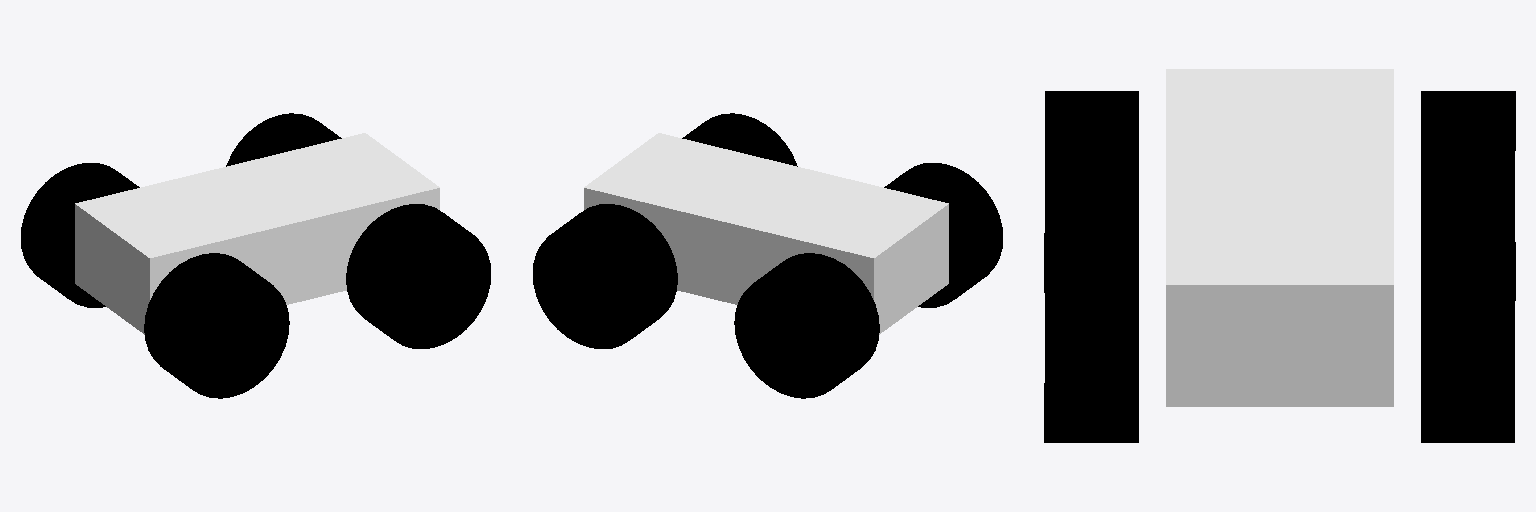
URDF robot description (diode_robot):
<?xml version="1.0" ?>
<robot name="diode_robot">

    <link name="base_link">
        <visual>
            <origin xyz=" -0.13 0 0.10" rpy="0 0 0" />
            <geometry>
                <box size="0.38 0.17 0.100"/>
            </geometry>
            <material name="white">
                <color rgba="1 1 1 1"/>
            </material>
        </visual>
    </link>   

    <joint name="left_wheel_joint" type="continuous">
        <origin xyz="-0.264 0.14 0.075" rpy="1.57 0 0"/>
        <parent link="base_link"/>
        <child link="left_wheel_link"/>
        <axis xyz="0 1 0"/>
    </joint>

    <link name="left_wheel_link">
        <visual>
            <origin xyz="0 0 0" rpy="0 0 0" />
            <geometry>
                <cylinder radius="0.075" length = "0.07"/>
            </geometry>
            <material name="black">
                <color rgba="0 0 0 1"/>
            </material>
        </visual>
    </link>

    <joint name="right_wheel_joint" type="continuous">
        <origin xyz="-0.264 -0.14 0.075" rpy="1.57 0 0"/>
        <parent link="base_link"/>
        <child link="right_wheel_link"/>
        <axis xyz="0 1 0"/>
    </joint>

    <link name="right_wheel_link">
        <visual>
            <origin xyz="0 0 0" rpy="0 0 0" />
            <geometry>
                <cylinder radius="0.075" length = "0.07"/>
            </geometry>
            <material name="black">
                <color rgba="0 0 0 1"/>
            </material>
        </visual>
    </link>

      <joint name="left_front_joint" type="continuous">
        <origin xyz="0.0 0.14 0.075" rpy="1.57 0 0"/>
        <parent link="base_link"/>
        <child link="left_front_link"/>
        <axis xyz="0 1 0"/>
    </joint>

    <link name="left_front_link">
        <visual>
            <origin xyz="0 0 0" rpy="0 0 0" />
            <geometry>
                <cylinder radius="0.075" length = "0.07"/>
            </geometry>
            <material name="black">
                <color rgba="0 0 0 1"/>
            </material>
        </visual>
    </link>

    <joint name="right_front_joint" type="continuous">
        <origin xyz="0.0 -0.14 0.075" rpy="1.57 0 0"/>
        <parent link="base_link"/>
        <child link="right_front_link"/>
        <axis xyz="0 1 0"/>
    </joint>

    <link name="right_front_link">
        <visual>
            <origin xyz="0 0 0" rpy="0 0 0" />
            <geometry>
                <cylinder radius="0.075" length = "0.07"/>
            </geometry>
            <material name="black">
                <color rgba="0 0 0 1"/>
            </material>
        </visual>
    </link>


</robot>

--- Render facts (derived) ---
3 views of the same robot in one strip: view 1: azimuth 30°, elevation 25°; view 2: azimuth 150°, elevation 25°; view 3: azimuth 270°, elevation 25° (orthographic).
Model diode_robot with 5 links and 4 joints (4 continuous), rooted at base_link, posed every joint at zero.
Links seen in each view (by area): view 1: base_link, right_wheel_link, right_front_link, left_wheel_link, left_front_link; view 2: base_link, left_wheel_link, left_front_link, right_wheel_link, right_front_link; view 3: base_link, left_front_link, right_front_link, right_wheel_link, left_wheel_link.
Boxes of the visible links, x1,y1,x2,y2 form: base_link: [75, 133, 439, 334]; right_wheel_link: [144, 253, 289, 398]; right_front_link: [346, 204, 490, 348]; left_wheel_link: [21, 163, 139, 307]; left_front_link: [226, 113, 341, 166]; base_link: [584, 133, 948, 334]; left_wheel_link: [734, 253, 879, 398]; left_front_link: [533, 204, 677, 348]; right_wheel_link: [884, 163, 1002, 307]; right_front_link: [682, 113, 797, 166]; base_link: [1166, 69, 1393, 406]; left_front_link: [1421, 241, 1515, 442]; right_front_link: [1044, 241, 1138, 442]; right_wheel_link: [1044, 91, 1138, 292]; left_wheel_link: [1421, 91, 1515, 241].
Bounding box of the posed robot: 0.414 × 0.3501 × 0.1501 m (x, y, z).
Geometry: primitives only (box / cylinder / sphere), no mesh files.